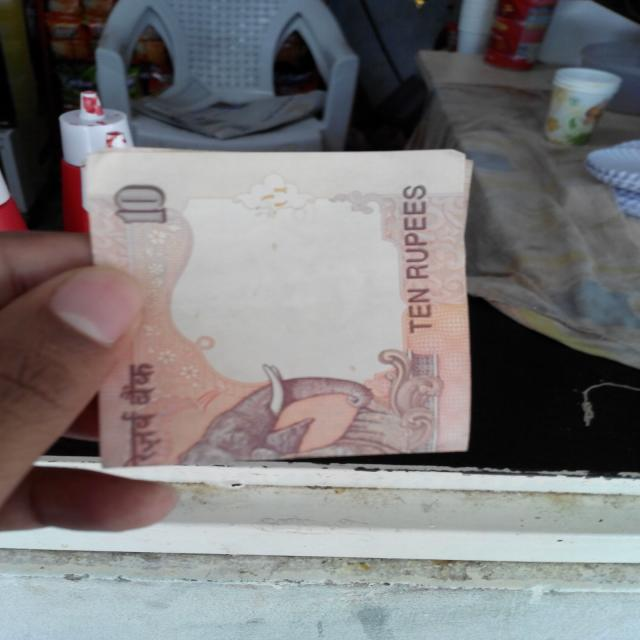10rs: (80, 151, 471, 461)
